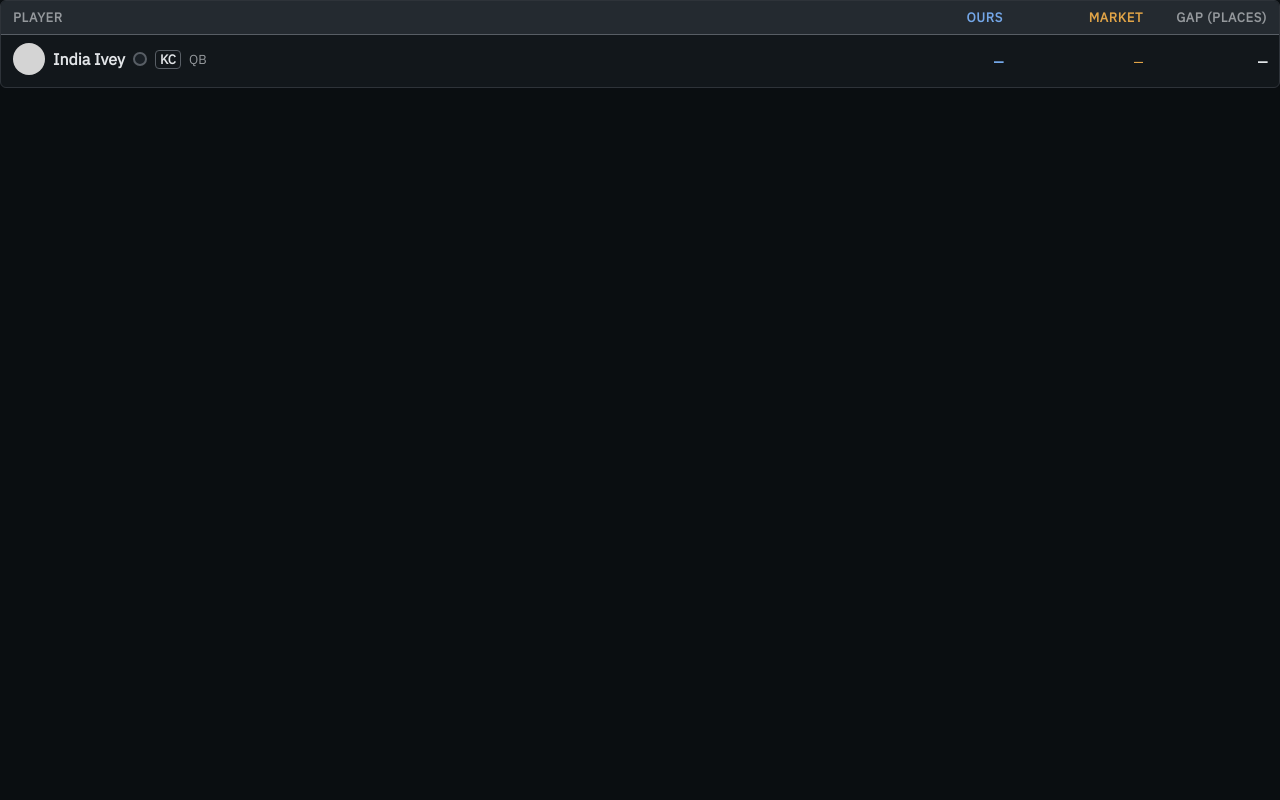
Scenario: still renders, expands and watches a player with no rank and no forecast
Later steps or results of the test are not shown.
Click the button "— India Ivey KC QB — —" at (29, 59), box top-left (1, 35), bottom-right (1279, 87)
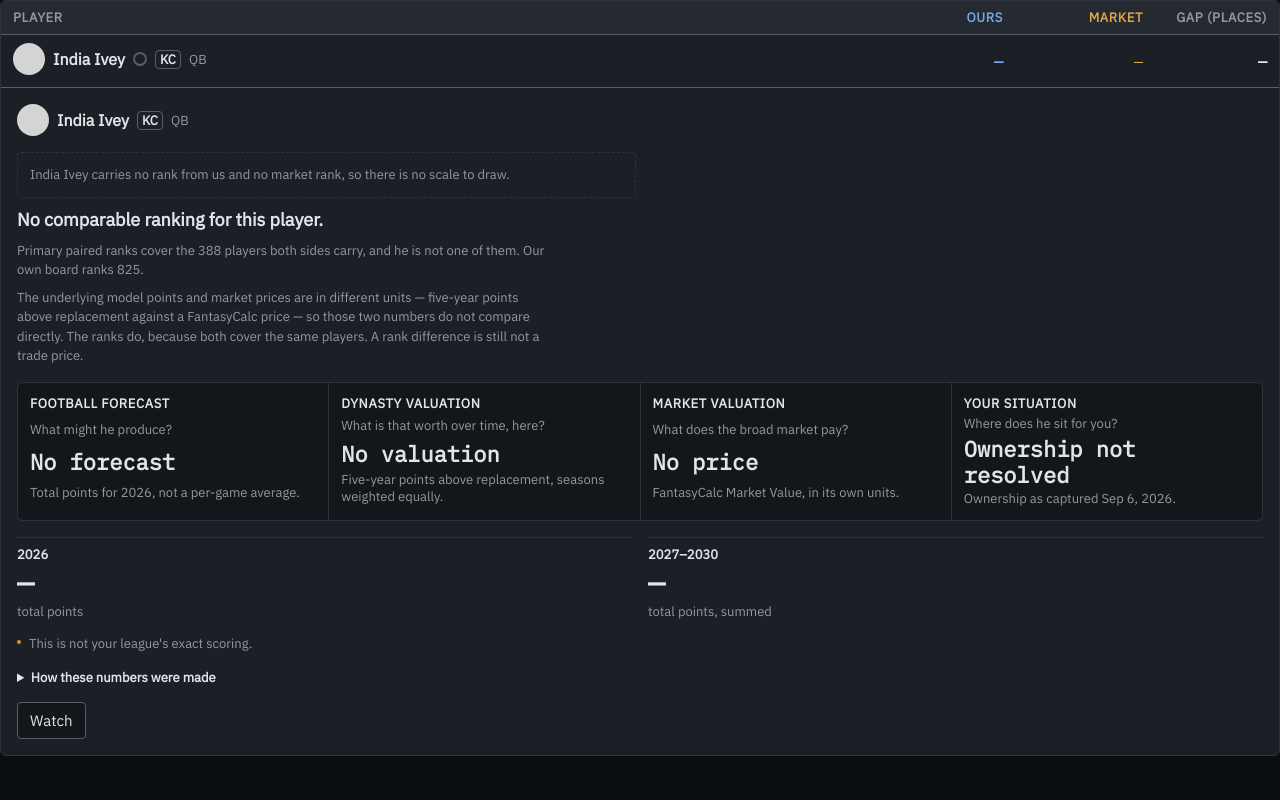
Expected: the element "India Ivey" is shown
